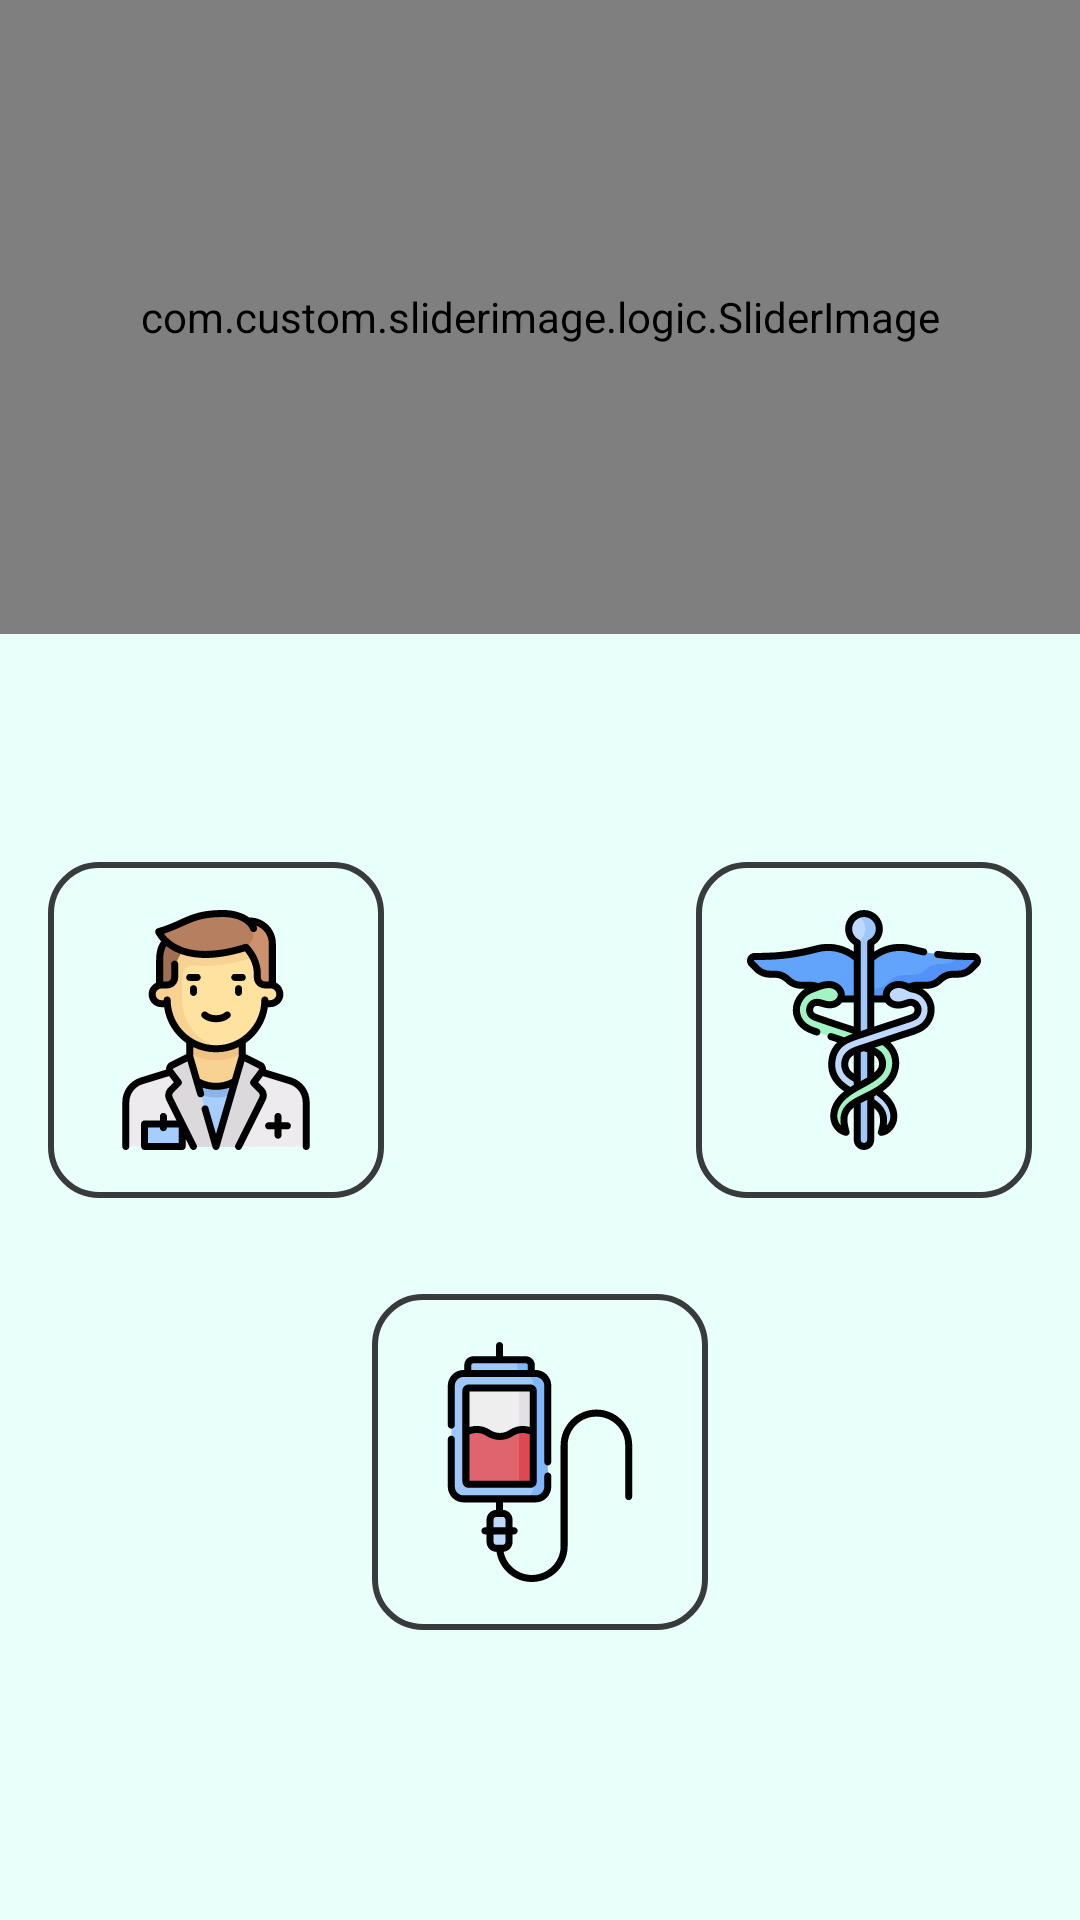

Screen size 1080 × 1920. Icon name, then its center in pixels as point (x, y):
doctors: point (216, 1030)
donations: point (540, 1462)
pharmacies: point (864, 1030)
